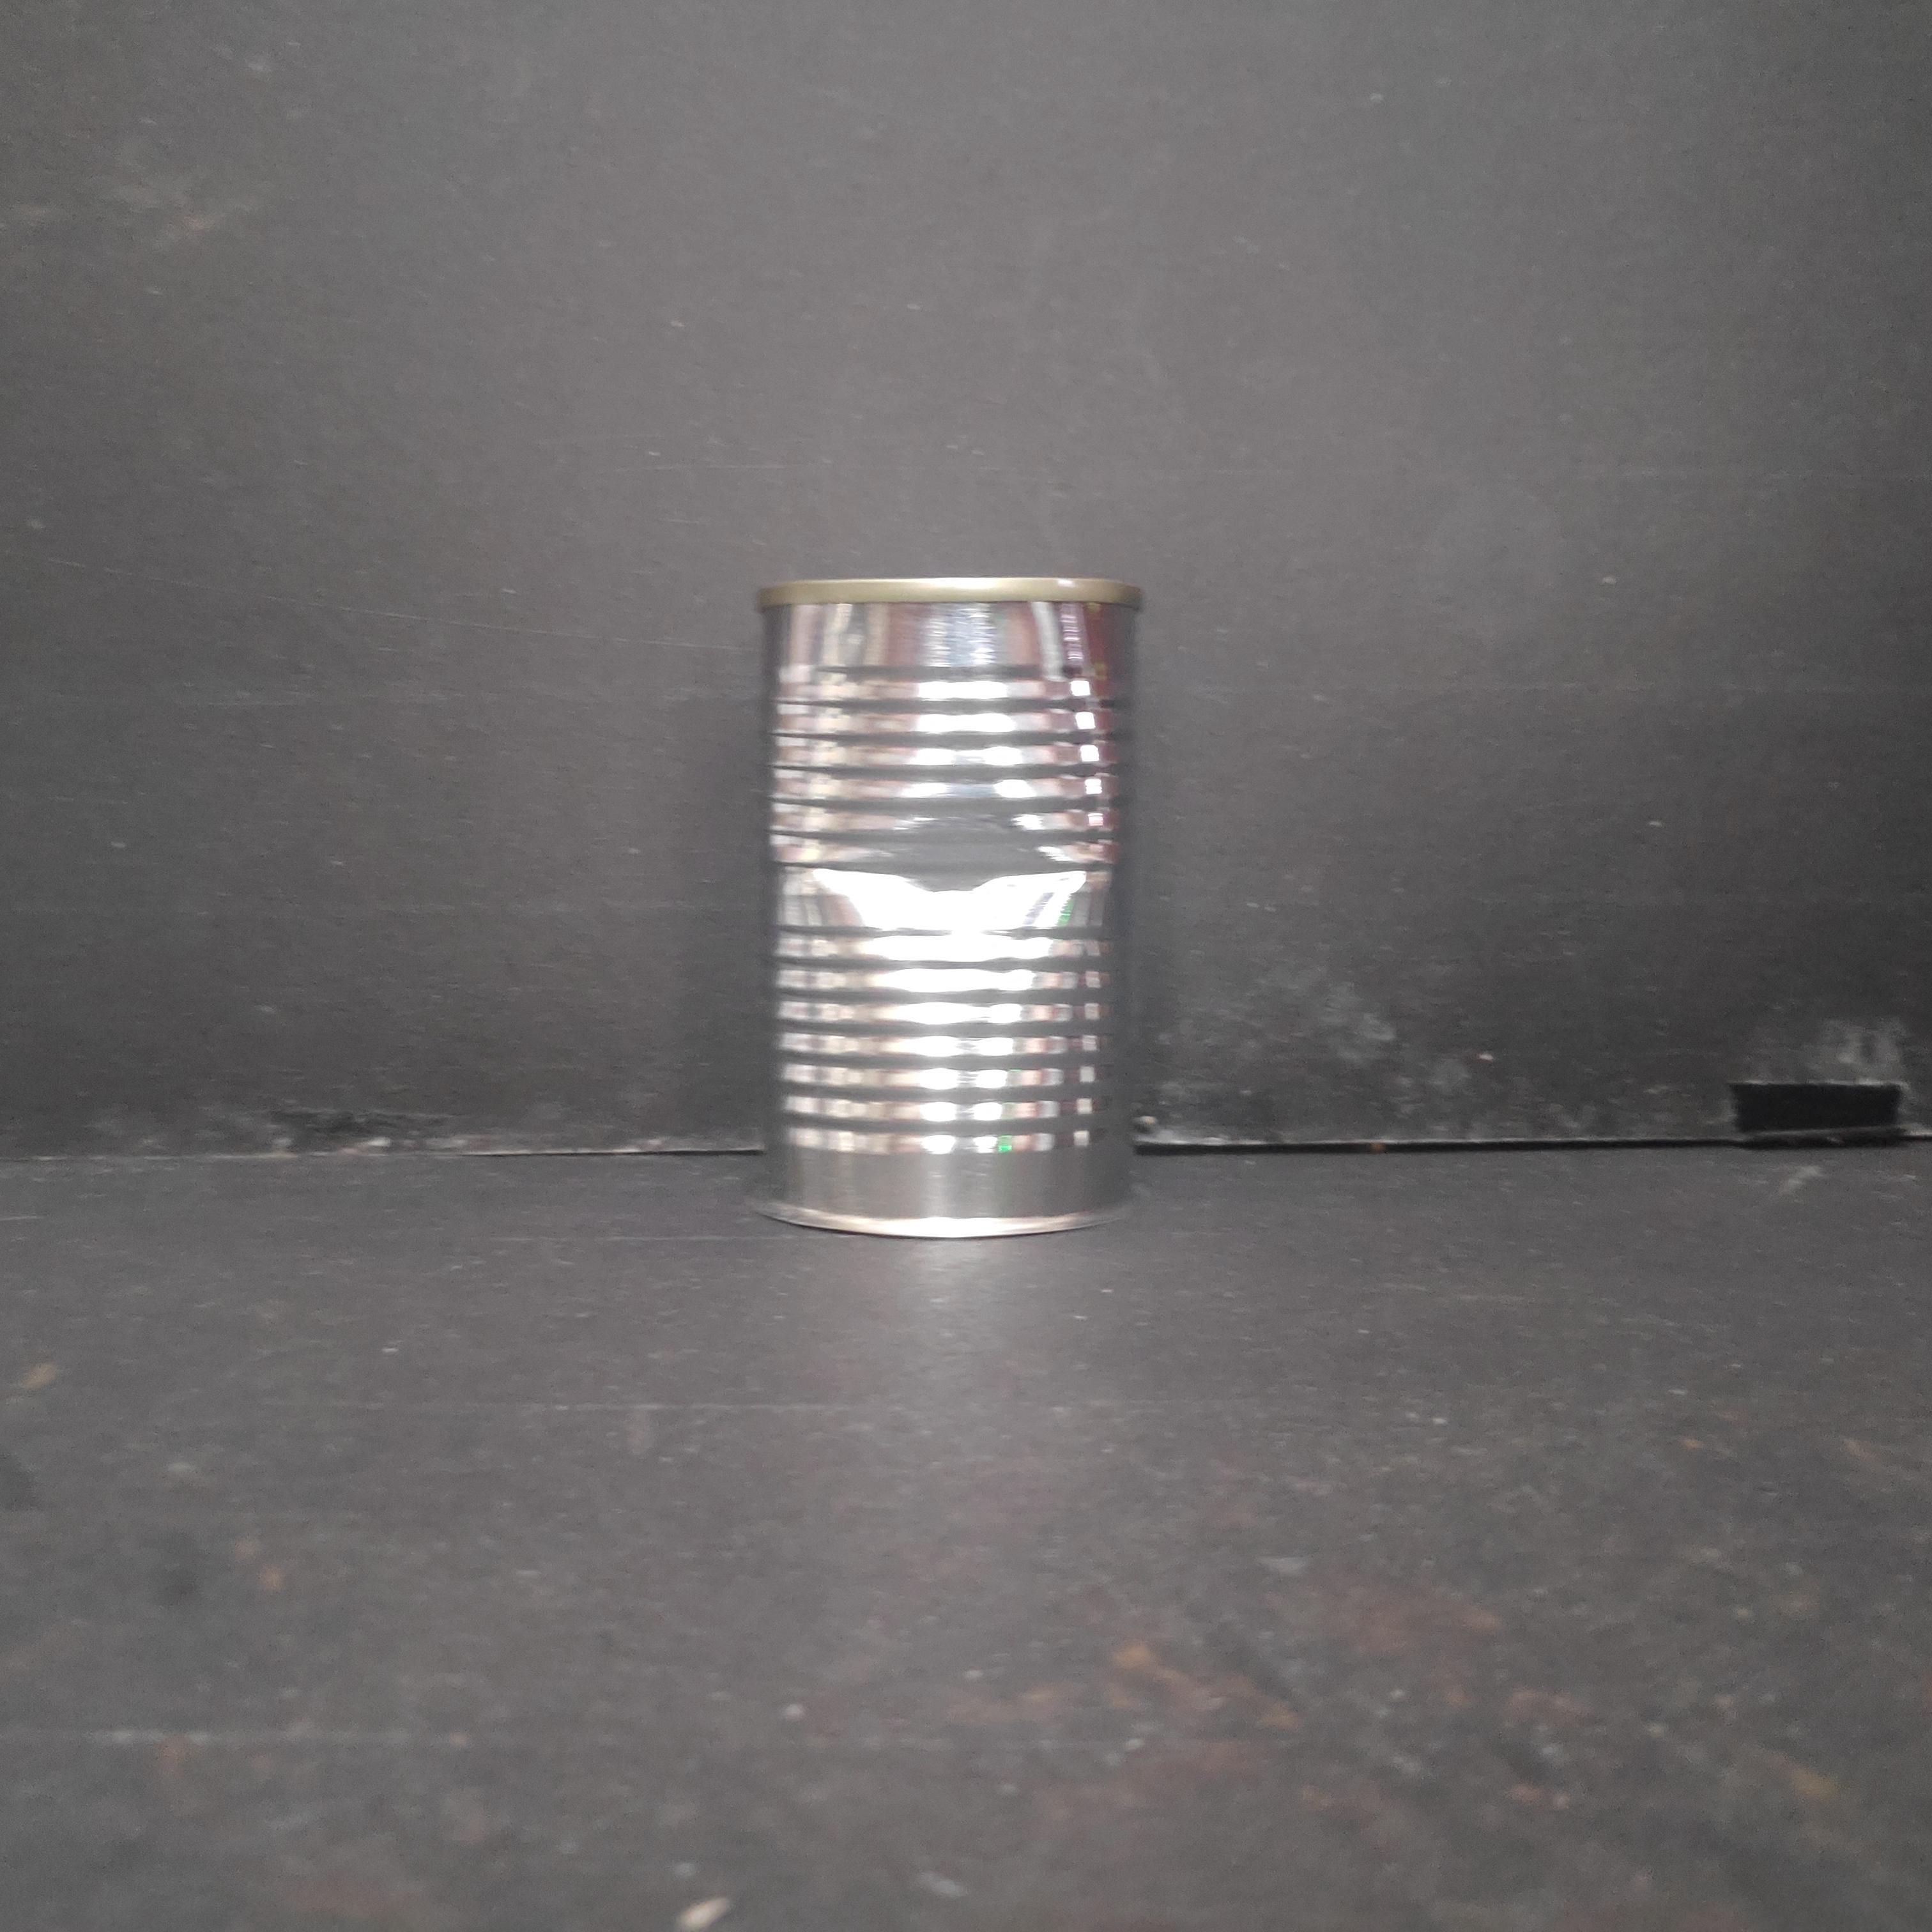Minor Defect: (743, 566, 1146, 1249)
